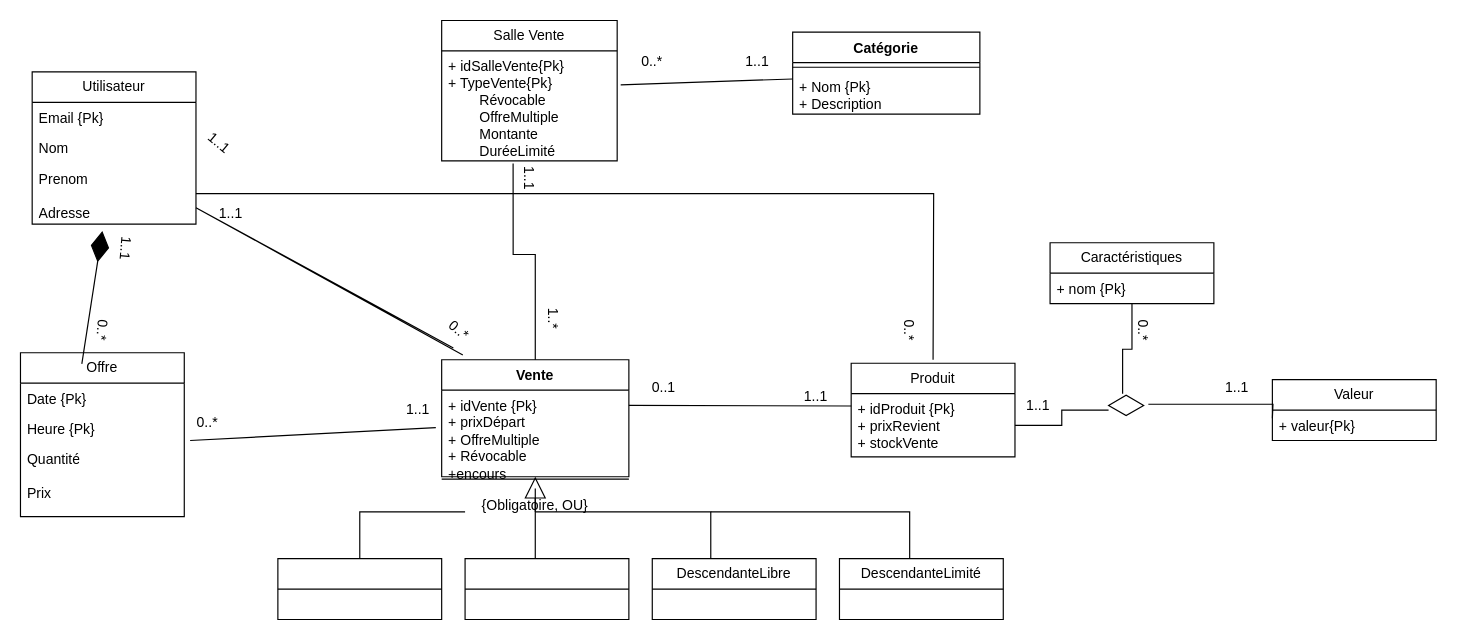
Image size: 1457x640. Some labels were removed from this diagram. The shapes that lost their labels are listed below. From the top down, each one's centre as x and y in pixels, then its label:
At point 359,589: "MontanteLibre".
At point 546,589: "MontanteLimité".
